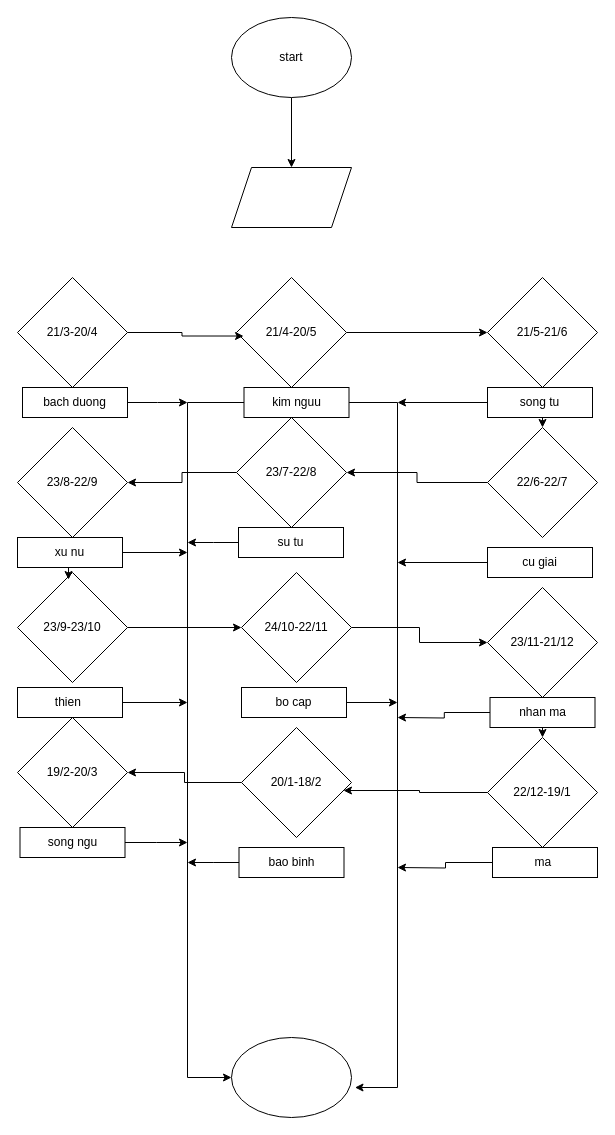
This 615x1135 diagram has some shape labels left out. The box of each missing label's shape, as (x1, y1, x2, y2) in pixels:
end: (230, 1036, 352, 1118)
ngày, tháng: (230, 166, 352, 228)
